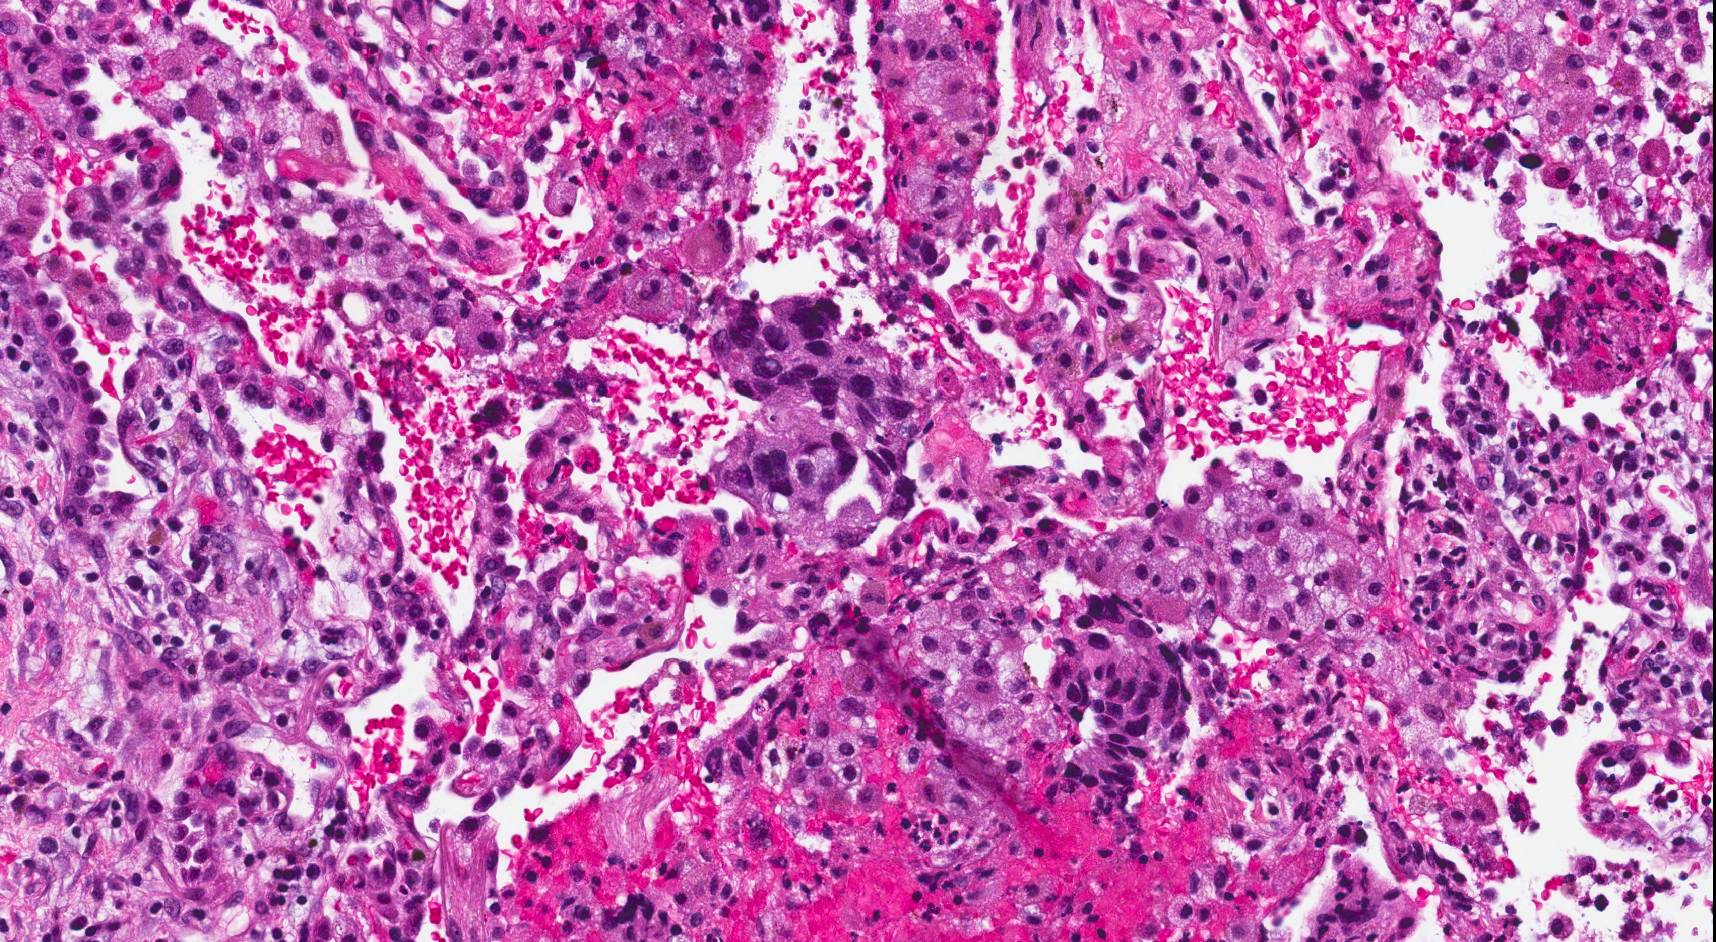stas: (702, 295, 923, 526), (1051, 593, 1190, 804)
